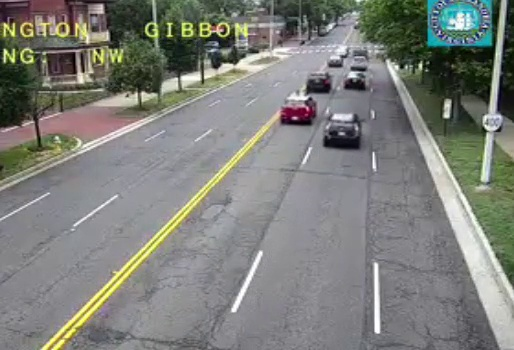car: (323, 113, 361, 144), (281, 96, 315, 123), (307, 73, 330, 92), (343, 71, 365, 89)
